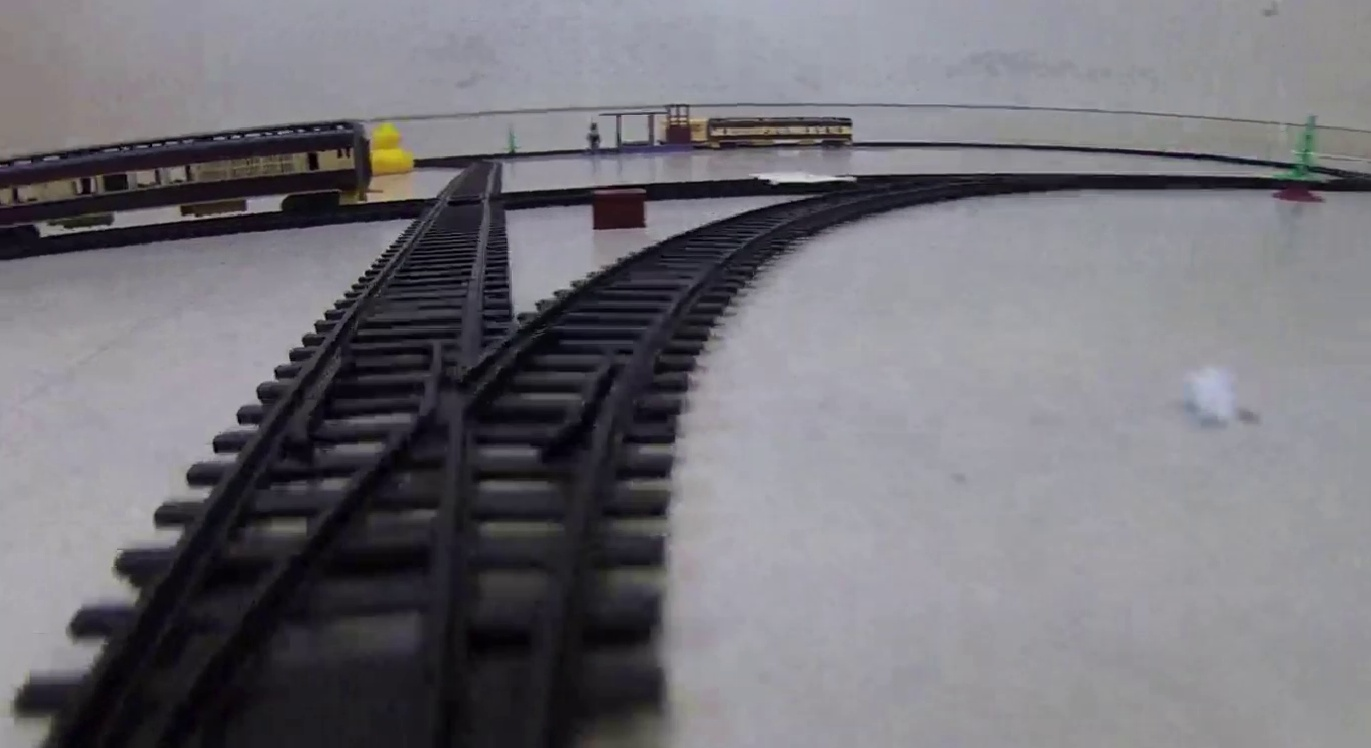box: (590, 187, 649, 230)
